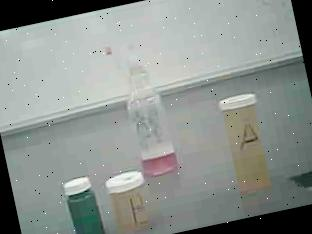Bottle A: (216, 90, 278, 196)
Bottle B: (102, 168, 155, 234)
Bottle C: (58, 173, 111, 234)
hazard: (101, 34, 183, 178)
